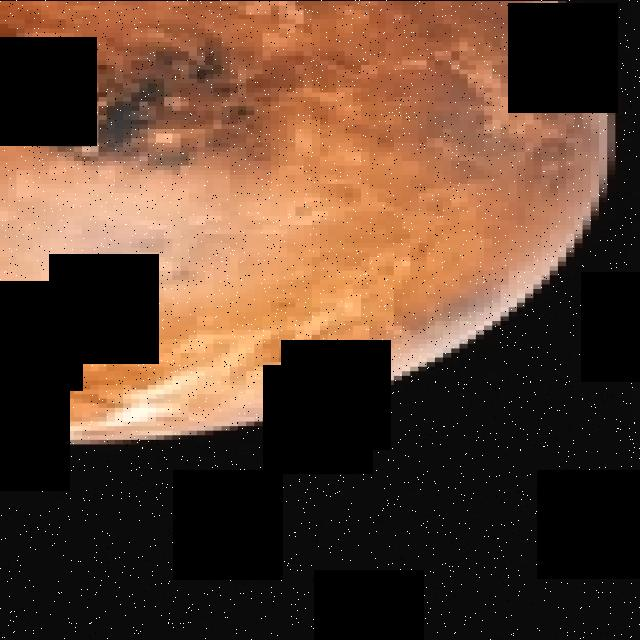Venus: (0, 0, 616, 443)
